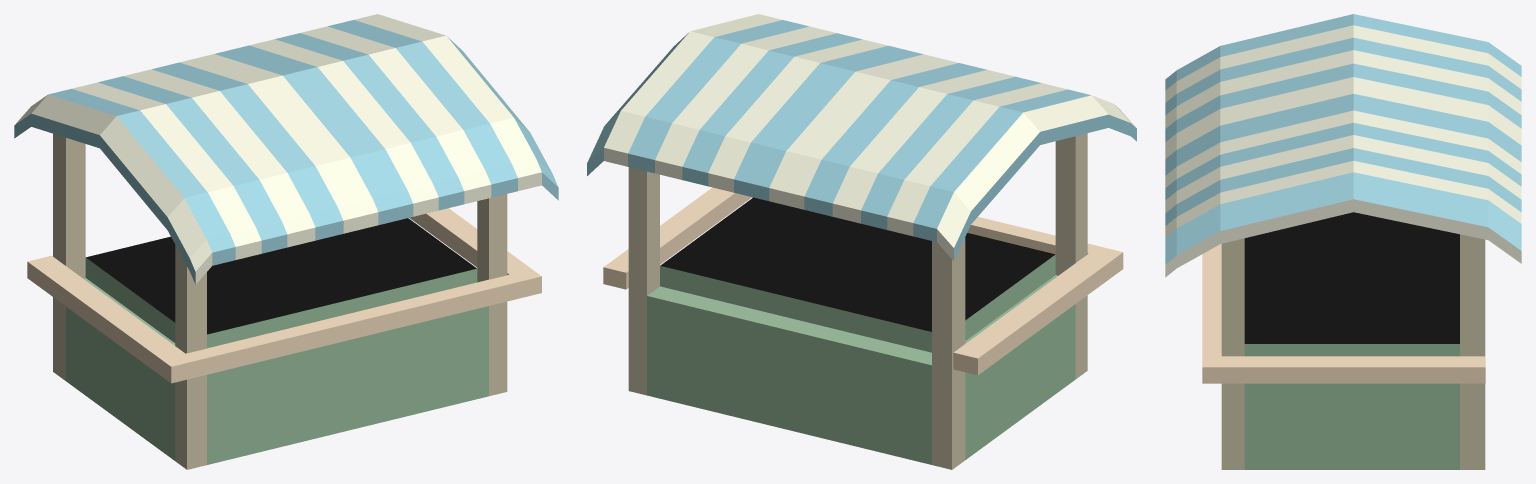
Rendered from puestico.fbx.
The picture shows the model from 3 angles, left to right: view 1: azimuth 30°, elevation 25°; view 2: azimuth 150°, elevation 25°; view 3: azimuth 270°, elevation 25°; orthographic projection. The views are drawn at different scales.
Visible parts, largest first — view 1: Cube.001, Cube, Cube.002; view 2: Cube, Cube.001, Cube.002; view 3: Cube.001, Cube, Cube.002.
Boxes of the visible parts, box(x1,y1,x2,y2) form: Cube.001: box(14, 14, 558, 284); Cube: box(53, 133, 507, 469); Cube.002: box(27, 208, 541, 383); Cube: box(628, 133, 1087, 469); Cube.001: box(587, 14, 1136, 260); Cube.002: box(603, 187, 1123, 375); Cube.001: box(1165, 14, 1521, 277); Cube: box(1221, 212, 1485, 469); Cube.002: box(1202, 244, 1485, 383).
Bounding box in the file's own units: 7.87 × 6.2 × 6.66.
